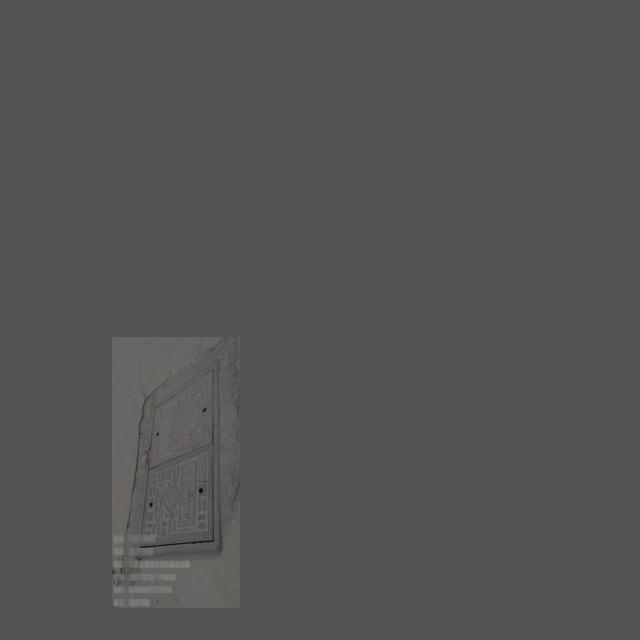good: (133, 362, 221, 555)
